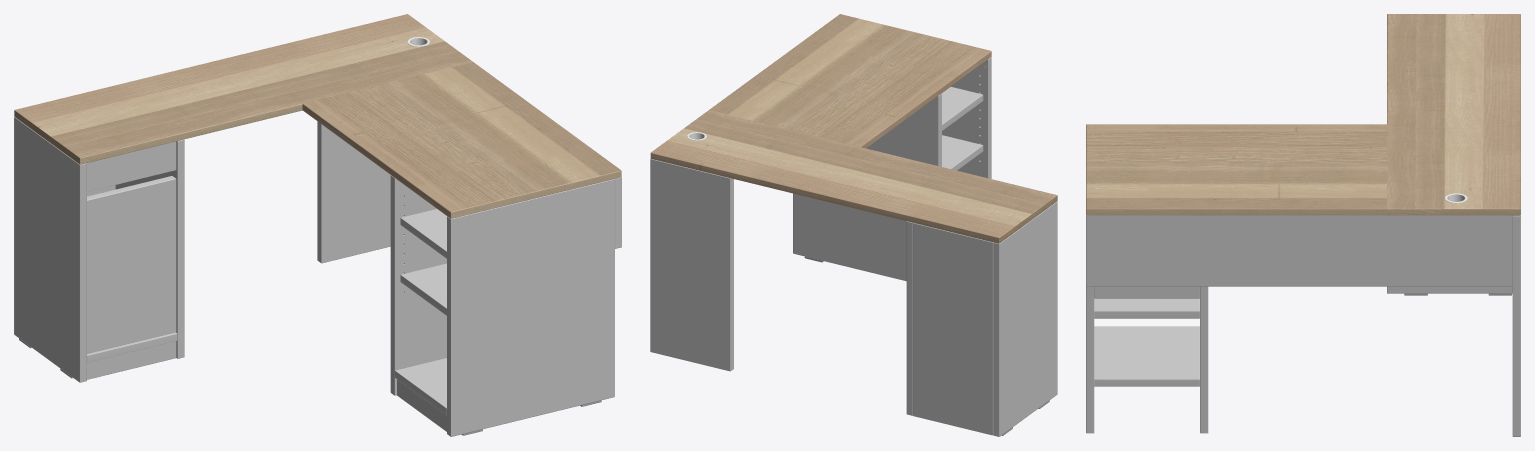
Rendered from kjellarne_biurko_narozne_20613678.glb.
3 renders of one model, left to right at view 1: azimuth 30°, elevation 25°; view 2: azimuth 150°, elevation 25°; view 3: azimuth 270°, elevation 25°, orthographic. The views are drawn at different scales.
Parts seen in each view (by area): view 1: kjellarne_biurko_narozne_20613678; view 2: kjellarne_biurko_narozne_20613678; view 3: kjellarne_biurko_narozne_20613678.
Boxes of the visible parts, bbox=[...] form: kjellarne_biurko_narozne_20613678: bbox=[14, 14, 621, 436]; kjellarne_biurko_narozne_20613678: bbox=[650, 14, 1057, 436]; kjellarne_biurko_narozne_20613678: bbox=[1086, 14, 1520, 436].
Size of the model in its own units: 1.38 by 0.7609 by 1.3.
5 materials, 1 textured.
